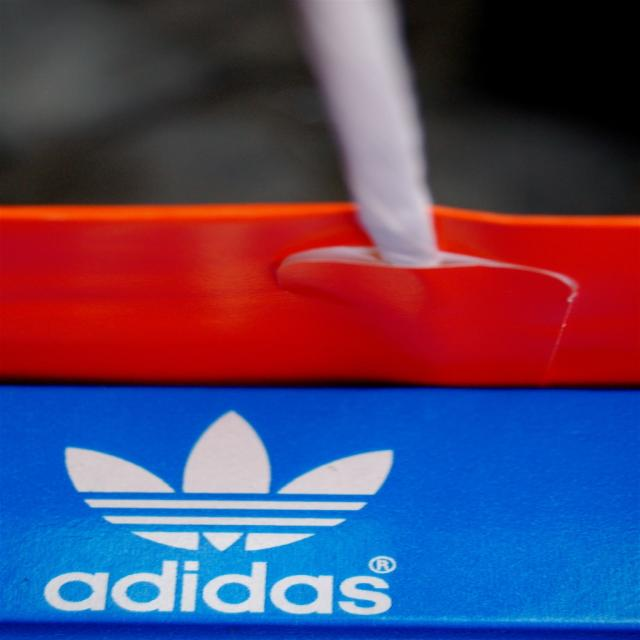adidas: (36, 403, 414, 621)
